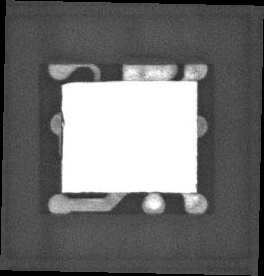DIE_INK: (60, 104, 66, 164), (61, 81, 80, 88)
